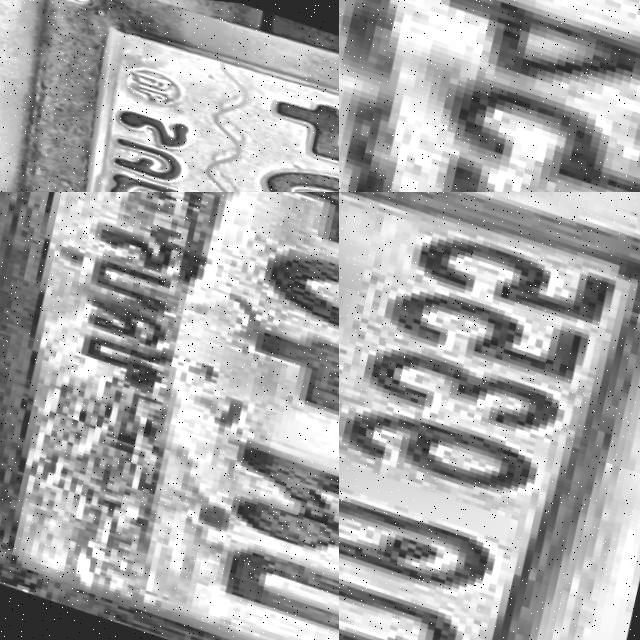license-plate: (0, 192, 339, 640), (339, 192, 640, 640), (0, 0, 339, 192), (339, 0, 640, 192)
